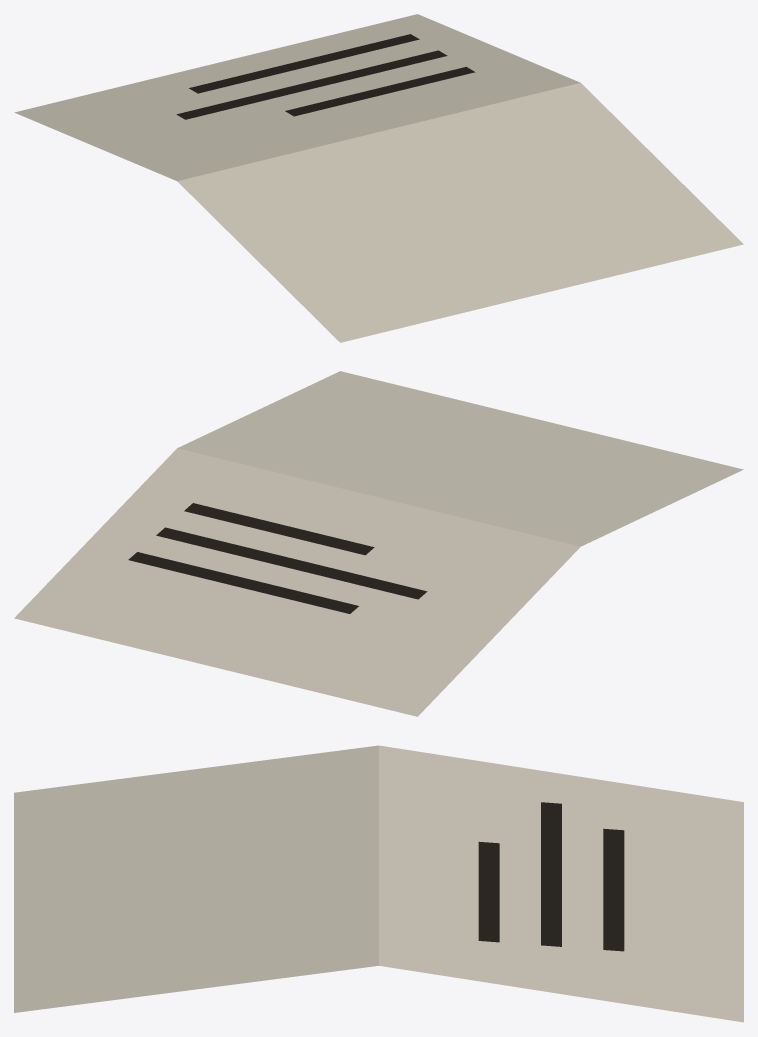
File: note_code.glb
3 views of the same model, one above another, from view 1: azimuth 30°, elevation 25°; view 2: azimuth 150°, elevation 25°; view 3: azimuth 270°, elevation 25° (orthographic). The views are drawn at different scales.
Parts seen in each view (by area): view 1: note_code; view 2: note_code; view 3: note_code.
Part boxes in pixels (bbox=[...]): note_code: bbox=[14, 14, 743, 342]; note_code: bbox=[14, 371, 743, 716]; note_code: bbox=[14, 745, 743, 1022].
Bounding box in the file's own units: 0.1 × 0.012 × 0.14.
